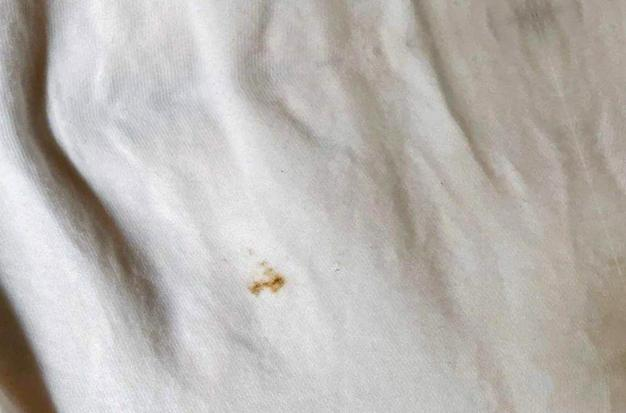stain: (236, 254, 291, 302)
